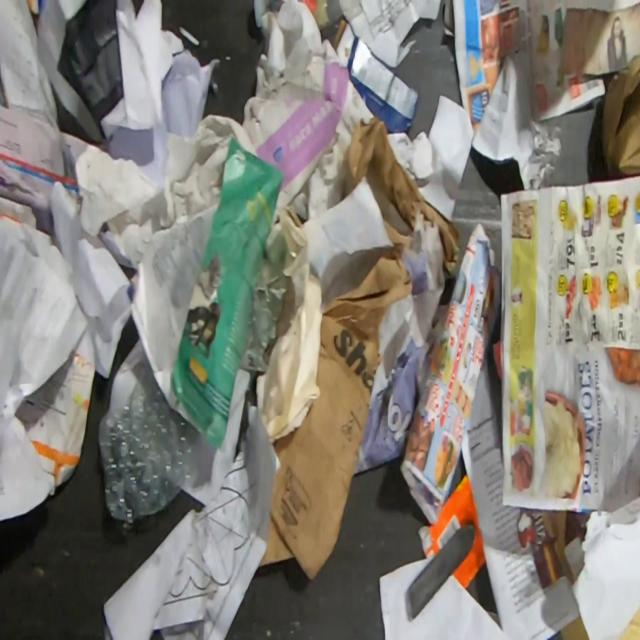cardboard: (13, 348, 95, 488), (332, 18, 420, 135), (600, 53, 640, 184)
rigid_plastic: (98, 366, 208, 522), (239, 274, 296, 374), (252, 0, 376, 32)
